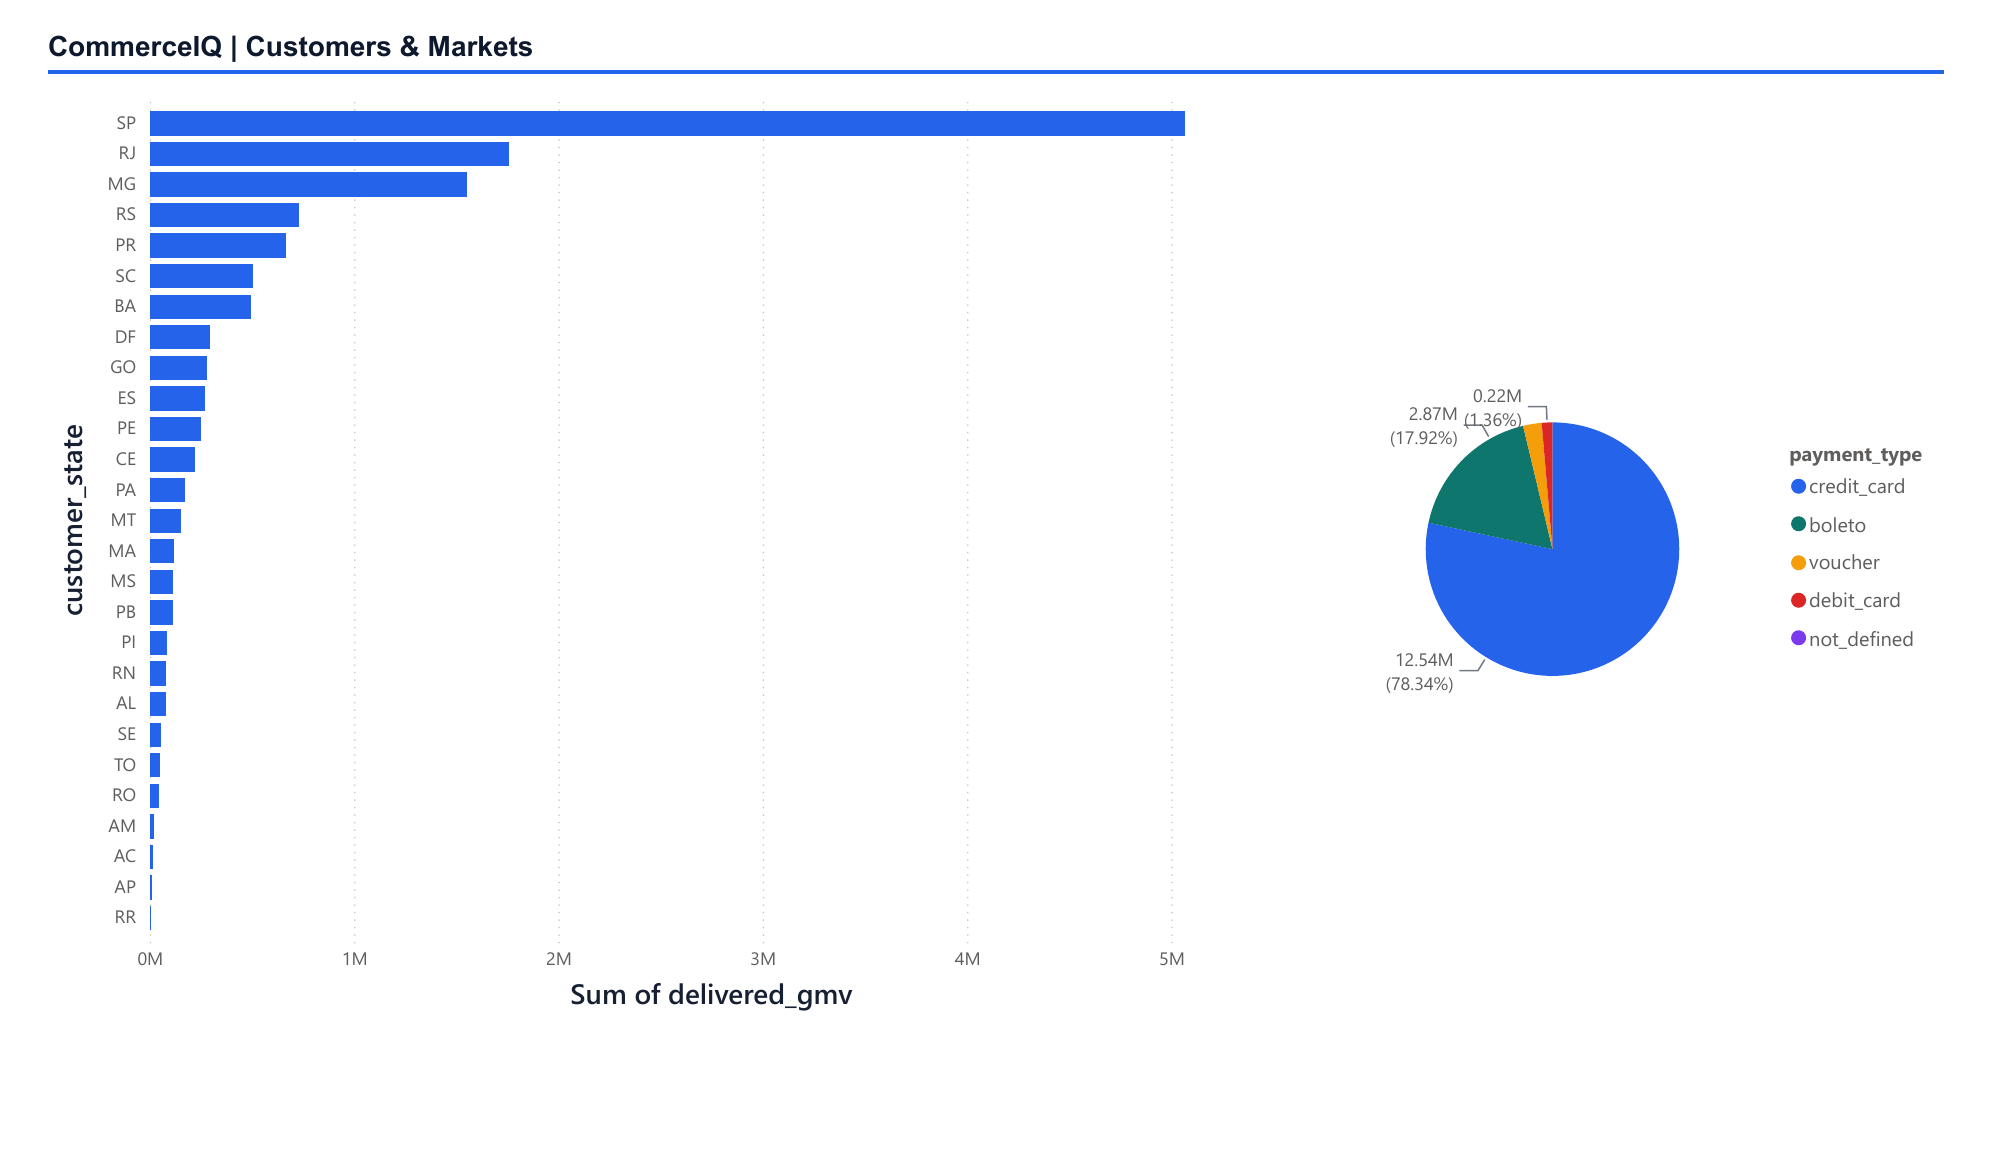

What the dashboard file says about the page in this screenshot:
{"tool":"powerbi","page":{"name":"Customers & Markets","canvas":[1280,720],"ordinal":2},"visuals":[{"type":"clusteredBarChart","title":"Delivered GMV by Customer State","fields":{"Category":["CommerceIQTable4.customer_state"],"Y":["Sum(CommerceIQTable4.delivered_gmv)"]},"box":[10.2,0,828.4,654.6],"z":0},{"type":"pieChart","title":"Payment Value by Method","fields":{"Category":["CommerceIQTable7.payment_type"],"Y":["Sum(CommerceIQTable7.payment_value)"]},"box":[848,0,432,655],"z":1000}]}

Visuals, with their boxes in screenshot pixels (x1, y1, x2, y2), scaled from the page's 1280x720 canvas onto the 1992x1152 screenshot:
"Delivered GMV by Customer State" clusteredBarChart: {"left": 16, "top": 0, "right": 1305, "bottom": 1047}
"Payment Value by Method" pieChart: {"left": 1320, "top": 0, "right": 1991, "bottom": 1048}
